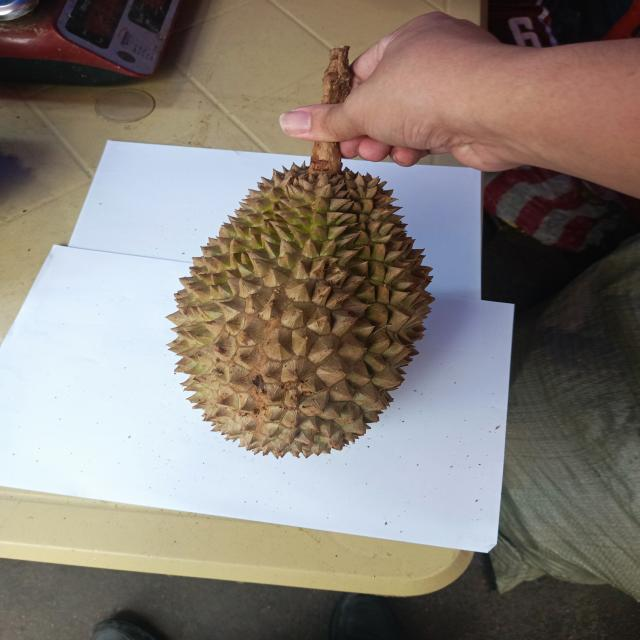mature: (163, 154, 434, 457)
